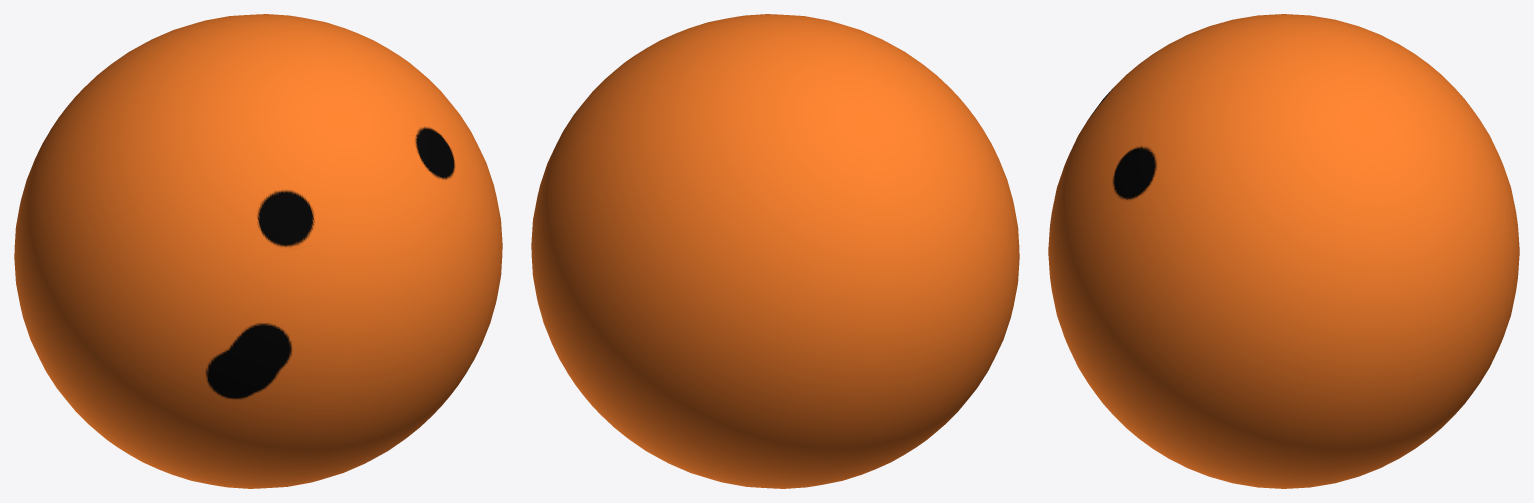
Rendered from MrNice.glb.
The picture shows the model from 3 angles, left to right: view 1: azimuth 30°, elevation 25°; view 2: azimuth 150°, elevation 25°; view 3: azimuth 270°, elevation 25°; orthographic projection.
Visible parts, largest first — view 1: mesh_id31; view 2: mesh_id31; view 3: mesh_id31.
Part boxes in pixels (x1=…): mesh_id31: x1=14, y1=14, x2=502, y2=488; mesh_id31: x1=531, y1=14, x2=1019, y2=488; mesh_id31: x1=1048, y1=14, x2=1519, y2=488.
Size of the model in its own units: 0.2373 by 0.2282 by 0.2282.
1 material, 1 textured.
